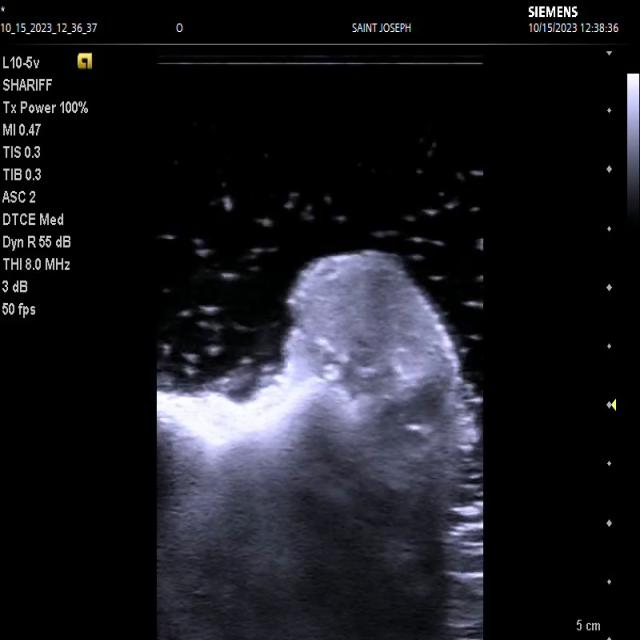tissue: (157, 250, 483, 640)
